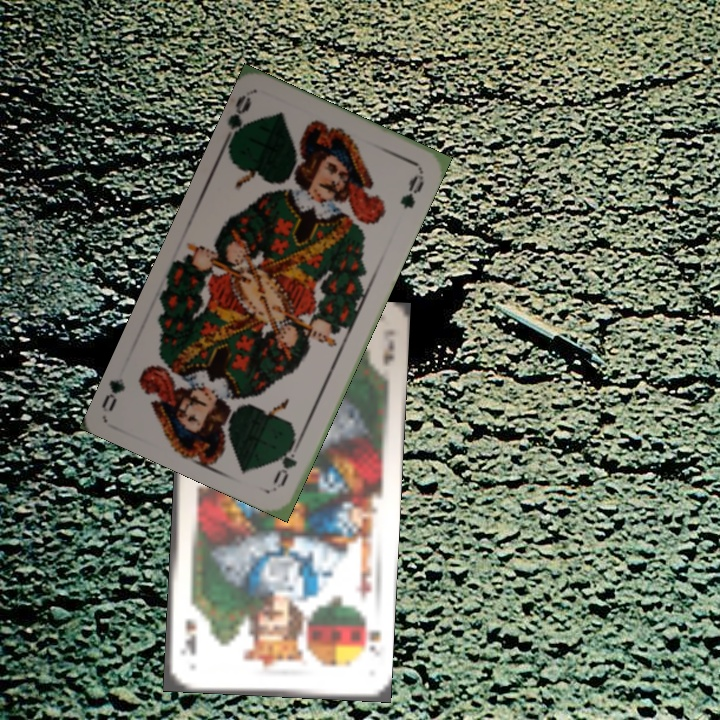GO: (219, 90, 257, 148), (269, 432, 305, 489)
SK: (359, 616, 384, 659)
